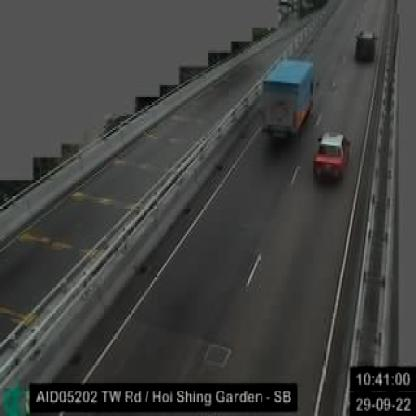Car: (312, 122, 355, 186), (348, 24, 380, 64)
Truck: (254, 54, 317, 147)
